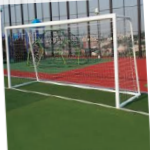goals: (4, 12, 141, 109)
